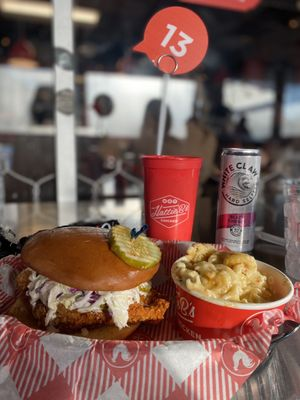pizza: (140, 155, 204, 246), (283, 180, 300, 282)
soup: (0, 220, 169, 335)
sushi: (170, 244, 295, 339)
